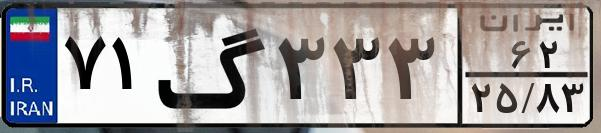1: (110, 28, 156, 98)
2: (537, 27, 568, 80), (470, 70, 495, 125)
3: (270, 28, 330, 110), (385, 28, 445, 110), (330, 28, 385, 110), (560, 70, 590, 125)
5: (495, 70, 520, 125)
6: (508, 27, 537, 80)
7: (57, 26, 110, 100)
8: (535, 70, 560, 125)
گ: (156, 12, 270, 120)
